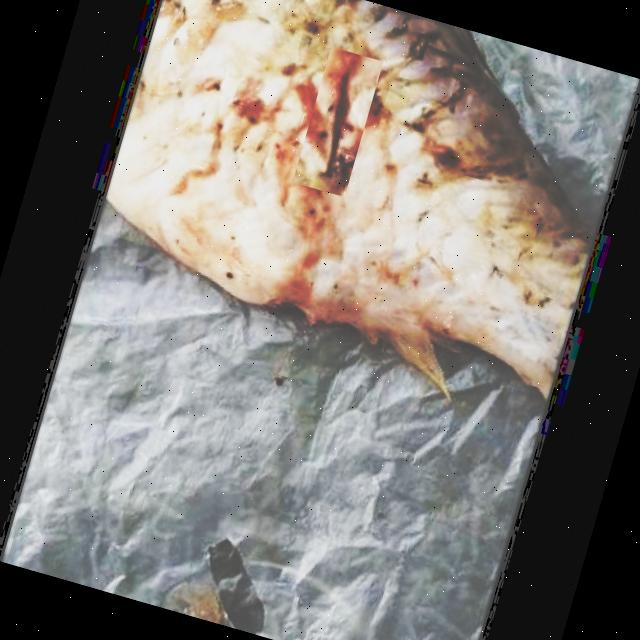Aeromonas Septicemia: (104, 0, 591, 398)
